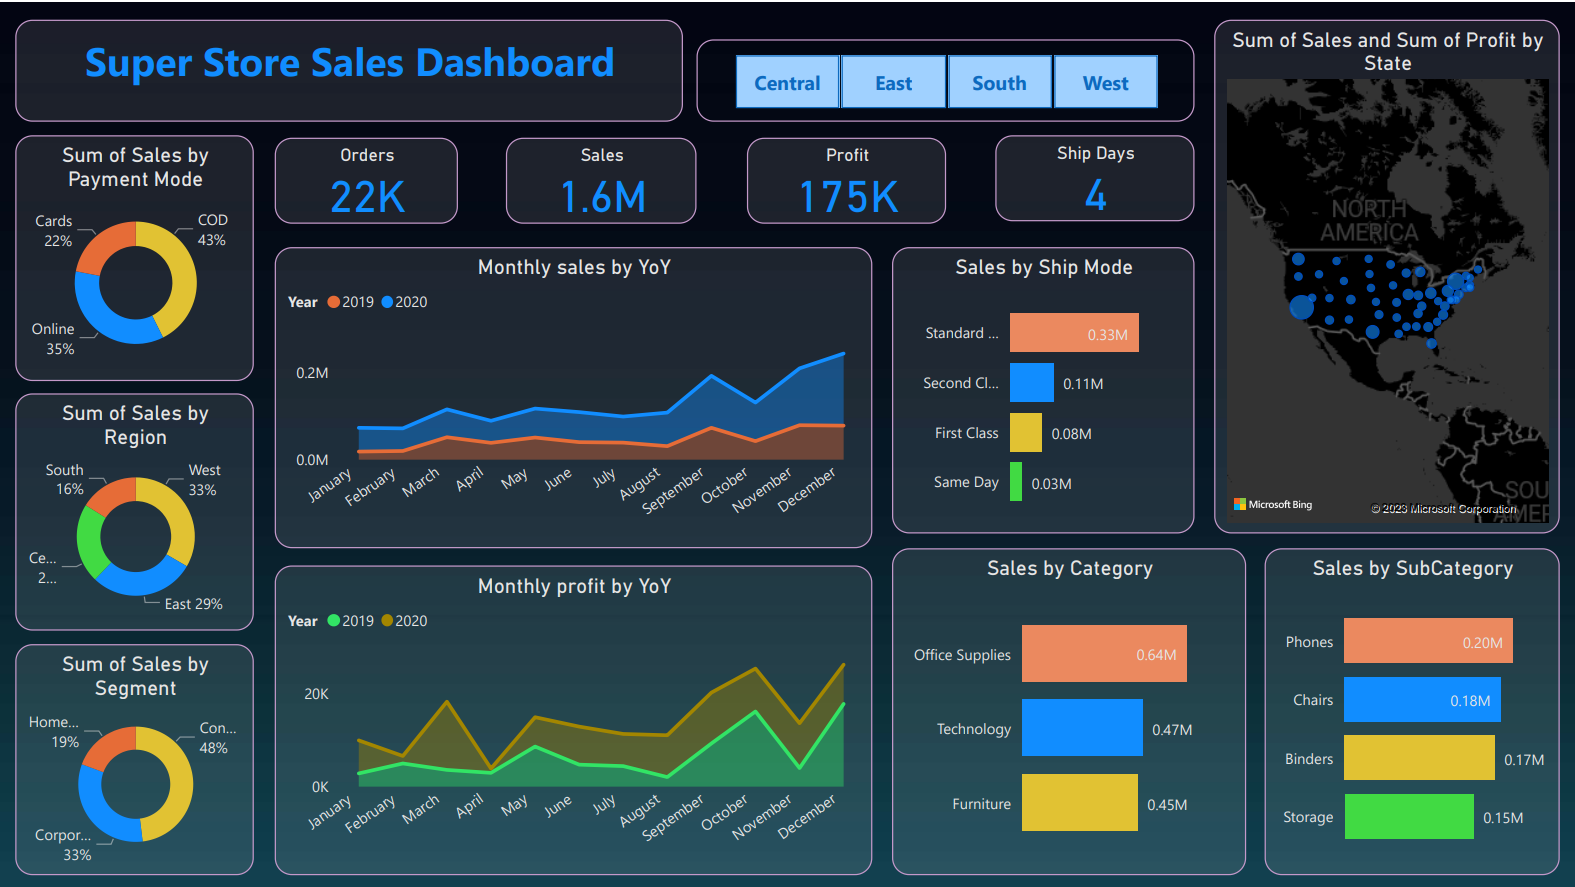

What the dashboard file says about the page in this screenshot:
{"tool":"powerbi","page":{"name":"Dashboard","canvas":[1280,720],"ordinal":0},"visuals":[{"type":"clusteredBarChart","title":"Sales by Category","fields":{"Category":["SuperStore_Sales_Dataset.Category"],"Y":["Sum(SuperStore_Sales_Dataset.Sales)"]},"box":[725.3,444.2,287.9,266],"z":0},{"type":"clusteredBarChart","title":"Sales by SubCategory","fields":{"Category":["SuperStore_Sales_Dataset.Sub-Category"],"Y":["Sum(SuperStore_Sales_Dataset.Sales)"]},"box":[1028.3,444.2,239.9,266],"z":1000},{"type":"clusteredBarChart","title":"Sales by Ship Mode","fields":{"Category":["SuperStore_Sales_Dataset.Ship Mode"],"Y":["Sum(SuperStore_Sales_Dataset.Sales)"]},"box":[725.3,198.8,245.4,233.1],"z":2000},{"type":"stackedAreaChart","title":"Monthly sales by YoY","fields":{"Y":["Sum(SuperStore_Sales_Dataset.Sales)"],"Category":["SuperStore_Sales_Dataset.Order Date.Variation.Date Hierarchy.Month","SuperStore_Sales_Dataset.Order Date.Variation.Date Hierarchy.Day"],"Series":["SuperStore_Sales_Dataset.Order Date.Variation.Date Hierarchy.Year"]},"box":[223.5,198.8,485.4,245.4],"z":3000},{"type":"stackedAreaChart","title":"Monthly profit by YoY","fields":{"Category":["SuperStore_Sales_Dataset.Order Date.Variation.Date Hierarchy.Month","SuperStore_Sales_Dataset.Order Date.Variation.Date Hierarchy.Day"],"Series":["SuperStore_Sales_Dataset.Order Date.Variation.Date Hierarchy.Year"],"Y":["Sum(SuperStore_Sales_Dataset.Profit)"]},"box":[223.5,457.9,485.4,252.3],"z":4000},{"type":"map","fields":{"Category":["SuperStore_Sales_Dataset.State"],"Size":["Sum(SuperStore_Sales_Dataset.Sales)"]},"box":[987.2,13.7,281.1,418.2],"z":5000},{"type":"donutChart","fields":{"Category":["SuperStore_Sales_Dataset.Segment"],"Y":["Sum(SuperStore_Sales_Dataset.Sales)"]},"box":[12.3,522.4,193.3,187.8],"z":6000},{"type":"donutChart","fields":{"Category":["SuperStore_Sales_Dataset.Payment Mode"],"Y":["Sum(SuperStore_Sales_Dataset.Sales)"]},"box":[12.3,108.3,193.3,200.2],"z":7000},{"type":"slicer","fields":{"Values":["SuperStore_Sales_Dataset.Region"]},"box":[566.2,30.2,404.5,67.2],"z":8000},{"type":"textbox","box":[12.3,13.7,542.9,83.6],"z":9000},{"type":"card","title":"Sales","fields":{"Values":["Sum(SuperStore_Sales_Dataset.Sales)"]},"box":[411.3,109.7,154.9,69.9],"z":10000},{"type":"card","title":"Orders","fields":{"Values":["Sum(SuperStore_Sales_Dataset.Quantity)"]},"box":[223.5,109.7,148.1,69.9],"z":11000},{"type":"card","title":"Profit","fields":{"Values":["Sum(SuperStore_Sales_Dataset.Profit)"]},"box":[607.4,109.7,161.8,69.9],"z":12000},{"type":"card","title":"Ship Days","fields":{"Values":["Avg(SuperStore_Sales_Dataset.AvgDelivery)"]},"box":[808.9,108.3,161.8,69.9],"z":13000},{"type":"donutChart","fields":{"Category":["SuperStore_Sales_Dataset.Region"],"Y":["Sum(SuperStore_Sales_Dataset.Sales)"]},"box":[12.3,318.1,193.3,193.3],"z":14000}]}

Visuals, with their boxes in screenshot pixels (x1, y1, x2, y2), scaled from the page's 1280x720 canvas onto the 1575x887 screenshot:
"Sales by Category" clusteredBarChart: [892,547,1247,875]
"Sales by SubCategory" clusteredBarChart: [1265,547,1560,875]
"Sales by Ship Mode" clusteredBarChart: [892,245,1194,532]
"Monthly sales by YoY" stackedAreaChart: [275,245,872,547]
"Monthly profit by YoY" stackedAreaChart: [275,564,872,875]
map - SuperStore_Sales_Dataset.State x Sum(SuperStore_Sales_Dataset.Sales): [1215,17,1561,532]
donutChart - SuperStore_Sales_Dataset.Segment x Sum(SuperStore_Sales_Dataset.Sales): [15,644,253,875]
donutChart - SuperStore_Sales_Dataset.Payment Mode x Sum(SuperStore_Sales_Dataset.Sales): [15,133,253,380]
slicer - SuperStore_Sales_Dataset.Region: [697,37,1194,120]
textbox: [15,17,683,120]
"Sales" card: [506,135,697,221]
"Orders" card: [275,135,457,221]
"Profit" card: [747,135,946,221]
"Ship Days" card: [995,133,1194,220]
donutChart - SuperStore_Sales_Dataset.Region x Sum(SuperStore_Sales_Dataset.Sales): [15,392,253,630]
